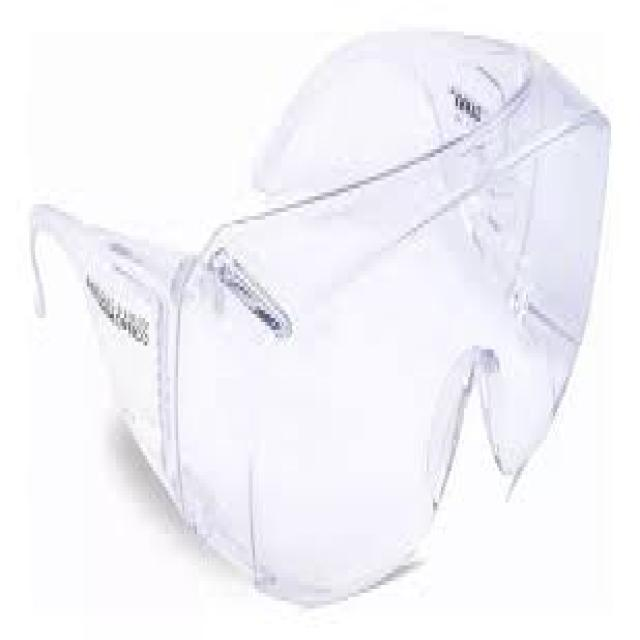oculos-epi: (31, 31, 609, 597)
